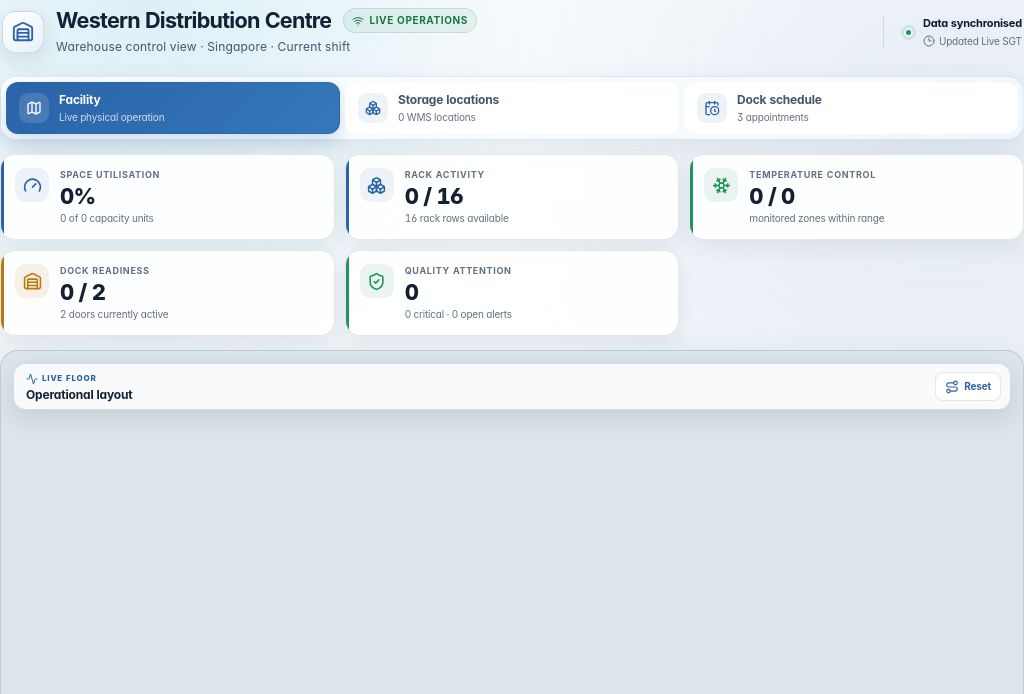
Warehouse workspace navigation › shows canonical conflicts and reveals completed and cancelled appointments in history
The image size is (1024, 694).
Click the button "Dock schedule 3 appointments": [779, 100] box [684,82,1018,134]
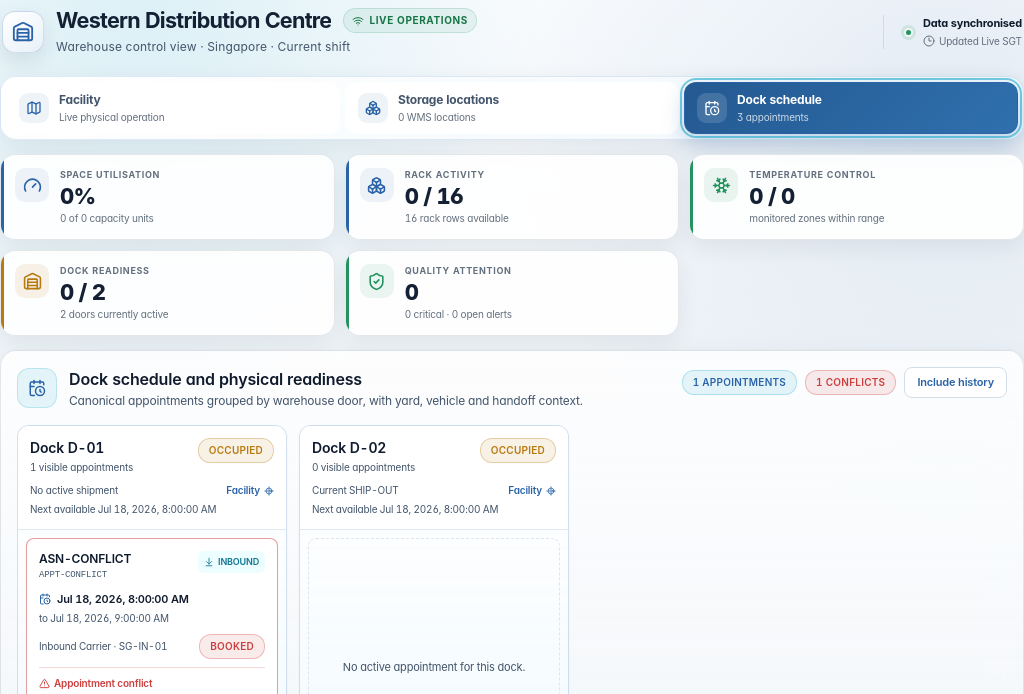
Expected: the text "APPT-IN" is not shown
Now the text "APPT-CONFLICT" is shown, box [39,570,107,580]
Now the text "Appointment conflict" is shown, box [39,667,265,691]
Click the button "Include history": [956, 383] box [904,367,1007,398]
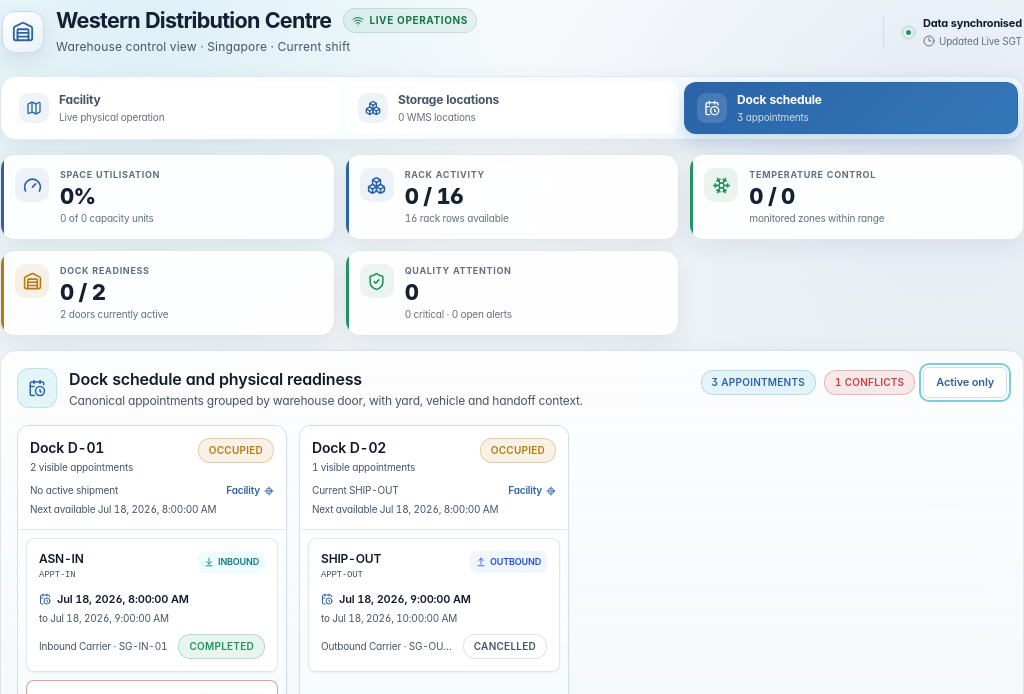
Now the text "APPT-IN" is shown, box [39,570,76,580]
Now the text "APPT-OUT" is shown, box [321,570,363,580]
Now the text "Completed" is shown, box [178,634,265,659]
